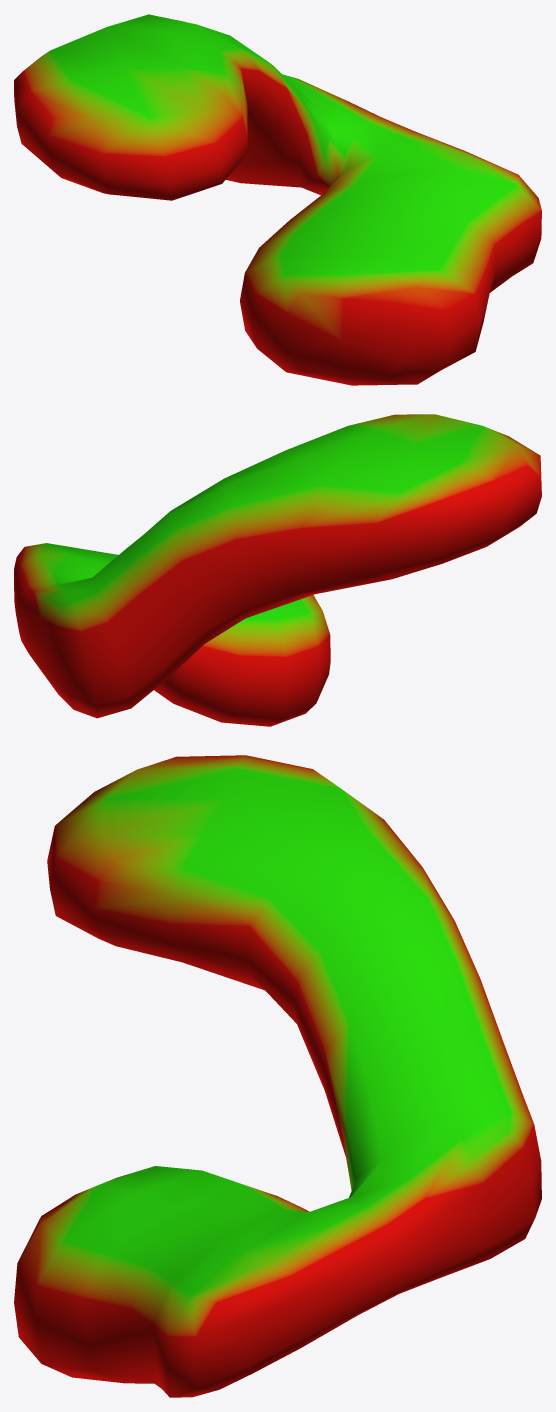
File: Mesa Rocks 2.fbx
3 renders of one model, top to bottom at view 1: azimuth 30°, elevation 25°; view 2: azimuth 150°, elevation 25°; view 3: azimuth 270°, elevation 25°, orthographic. The views are drawn at different scales.
Visible parts, largest first — view 1: Mesa Rocks 2; view 2: Mesa Rocks 2; view 3: Mesa Rocks 2.
Boxes of the visible parts, x1,y1,x2,y2 form: Mesa Rocks 2: (14,14,541,385); Mesa Rocks 2: (14,414,541,726); Mesa Rocks 2: (14,755,541,1397).
Bounding box in the file's own units: 1291 × 805 × 907.
